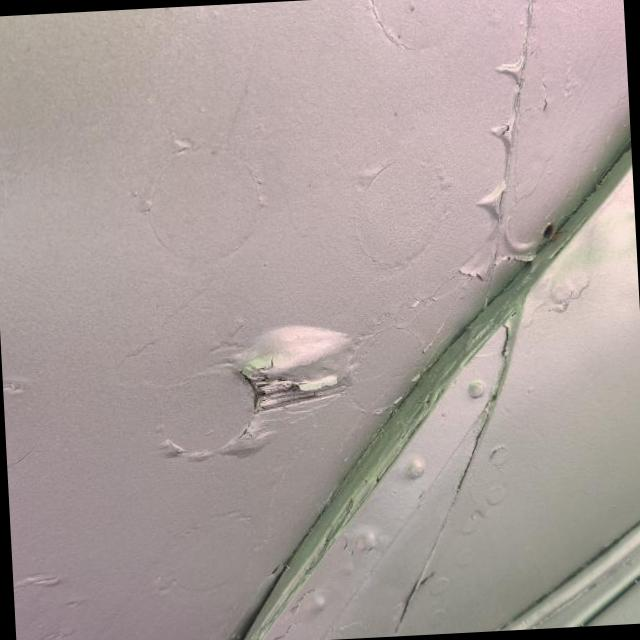Paint-off: (236, 325, 353, 412)
